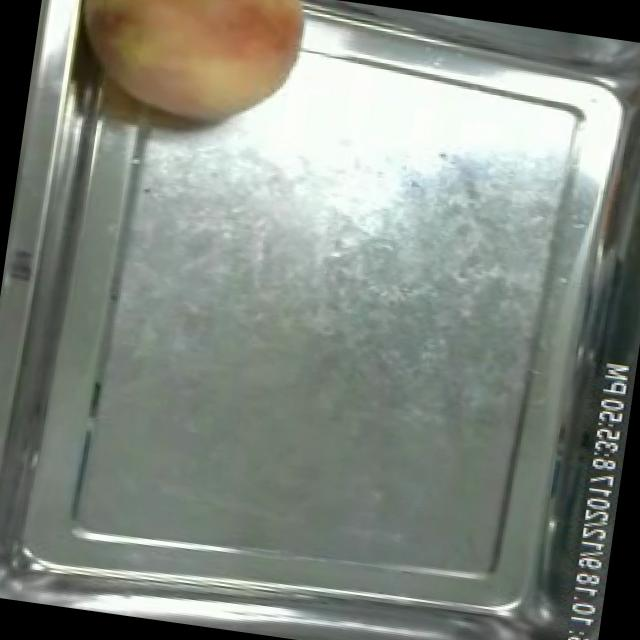Fruit: (62, 0, 323, 143)
